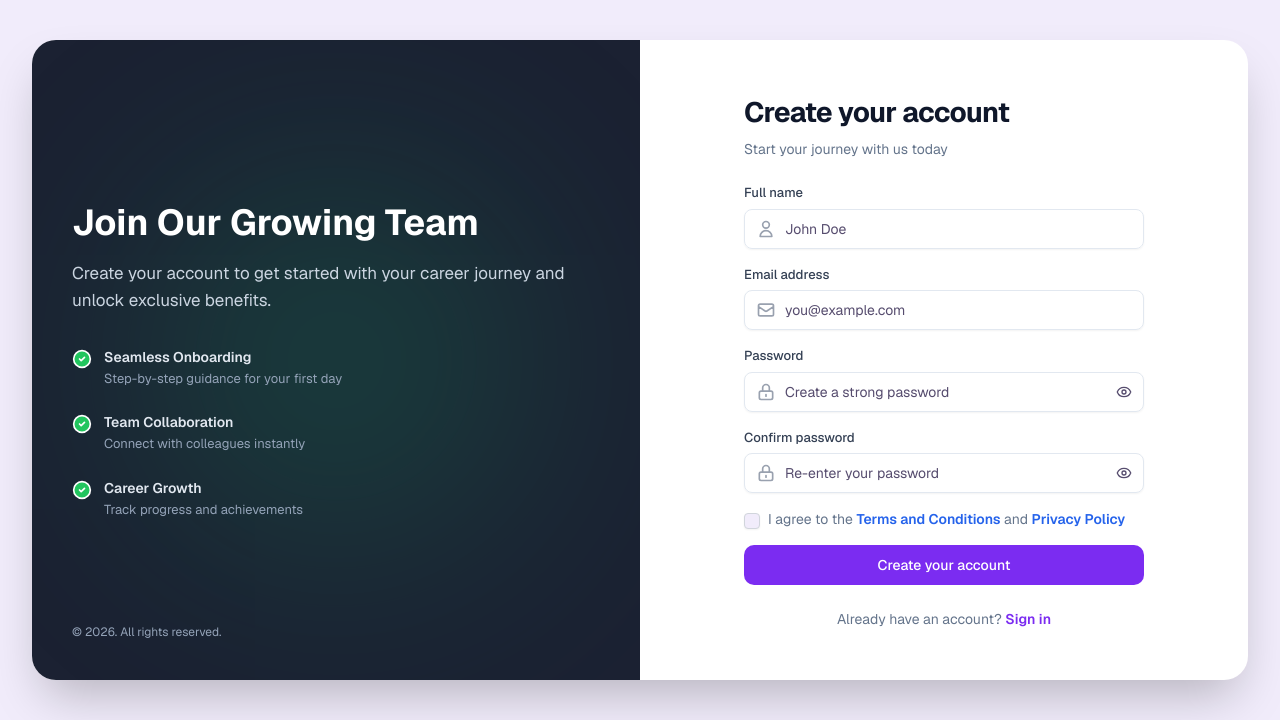
Scenario: RegisterPage – Error Handling › displays error message when auth.signUp throws an Error
Expected: the field with placeholder "you@example.com" is shown, top-left (744, 290), bottom-right (1144, 330)
Type "Jane Smith" into the field with placeholder "John Doe" at (944,228), box top-left (744, 208), bottom-right (1144, 248)
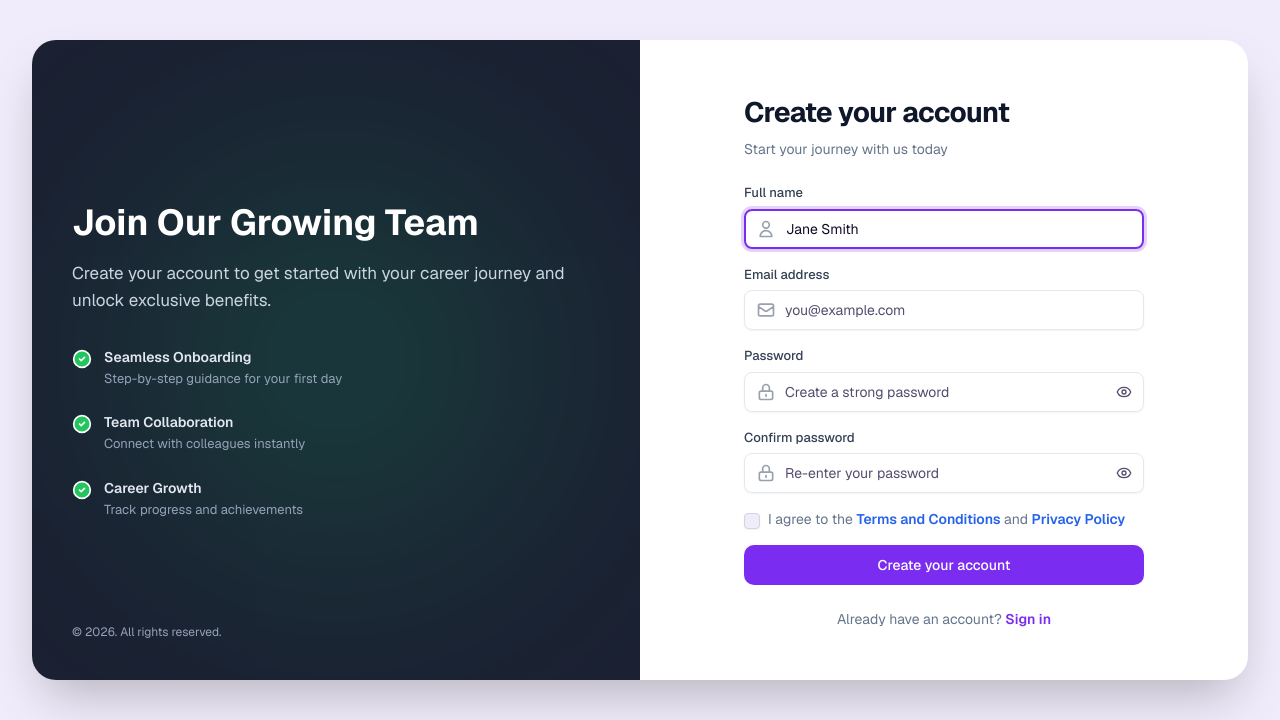
Type "jane@example.com" into the field with placeholder "you@example.com" at (944,310), box top-left (744, 290), bottom-right (1144, 330)
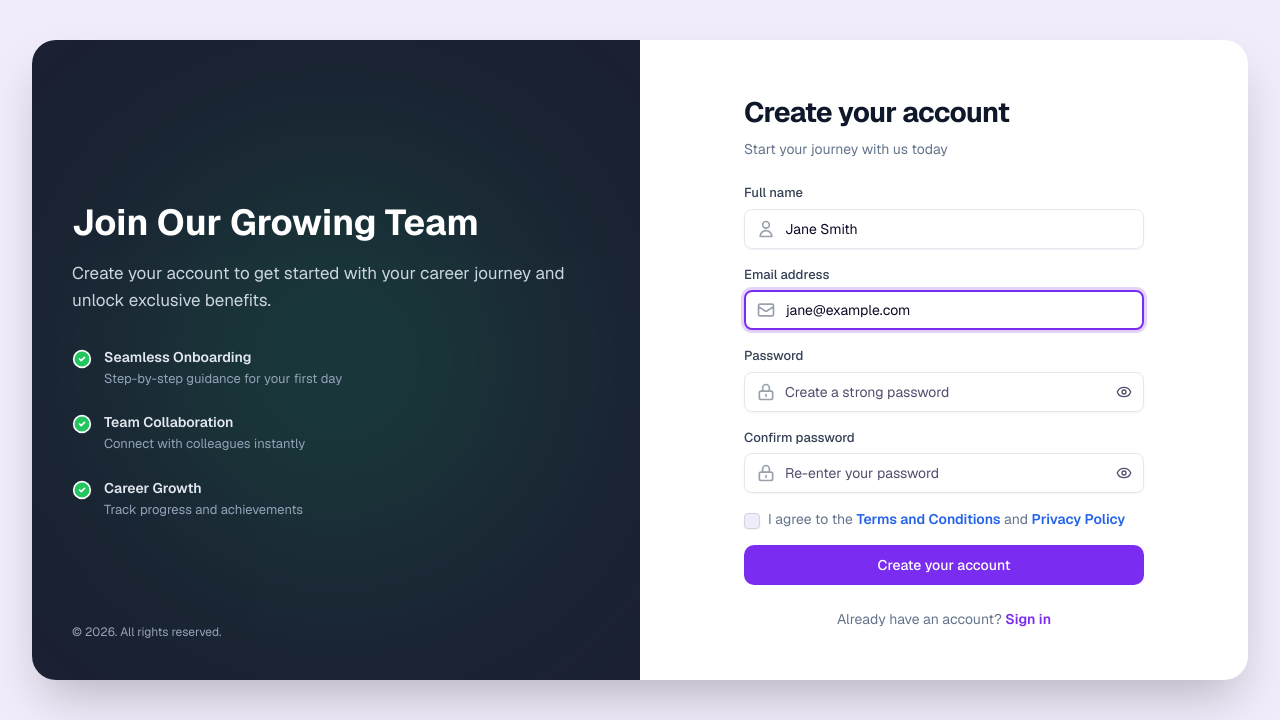
Type "Secret123!" into the password field with placeholder "Create a strong password" at (944,392), box top-left (744, 372), bottom-right (1144, 412)
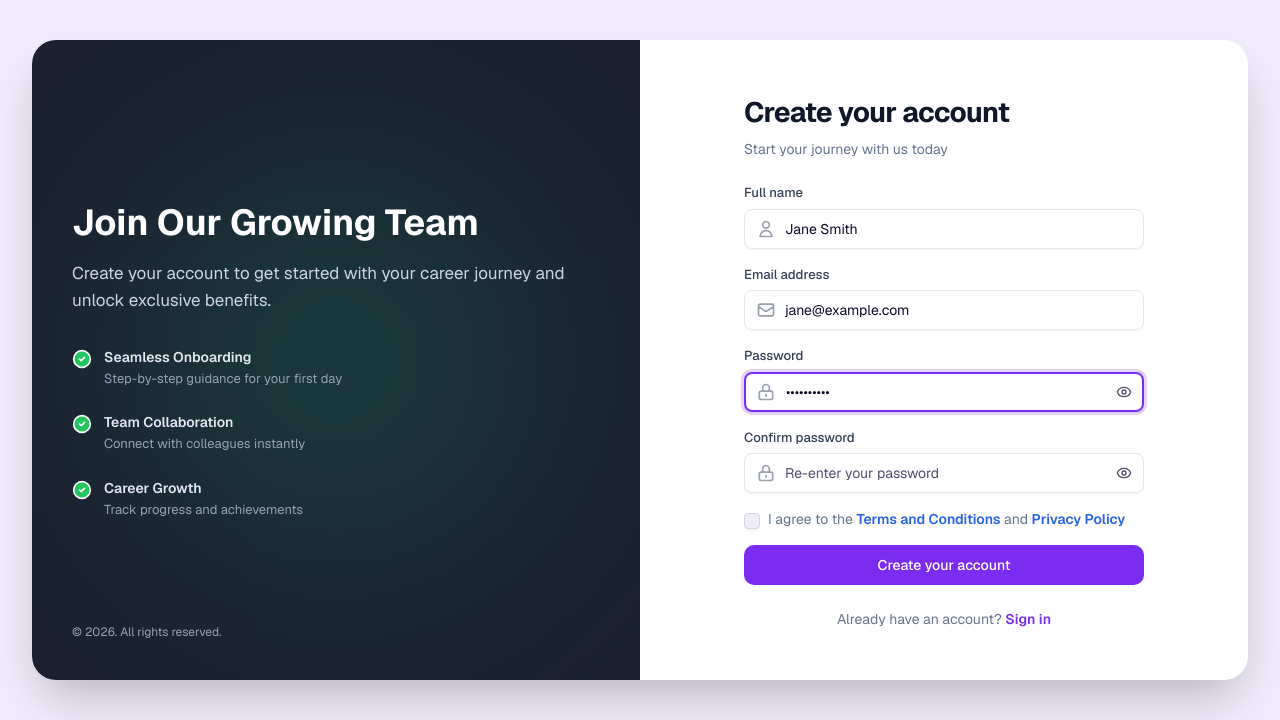
Type "Secret123!" into the password field with placeholder "Re-enter your password" at (944,473), box top-left (744, 453), bottom-right (1144, 493)
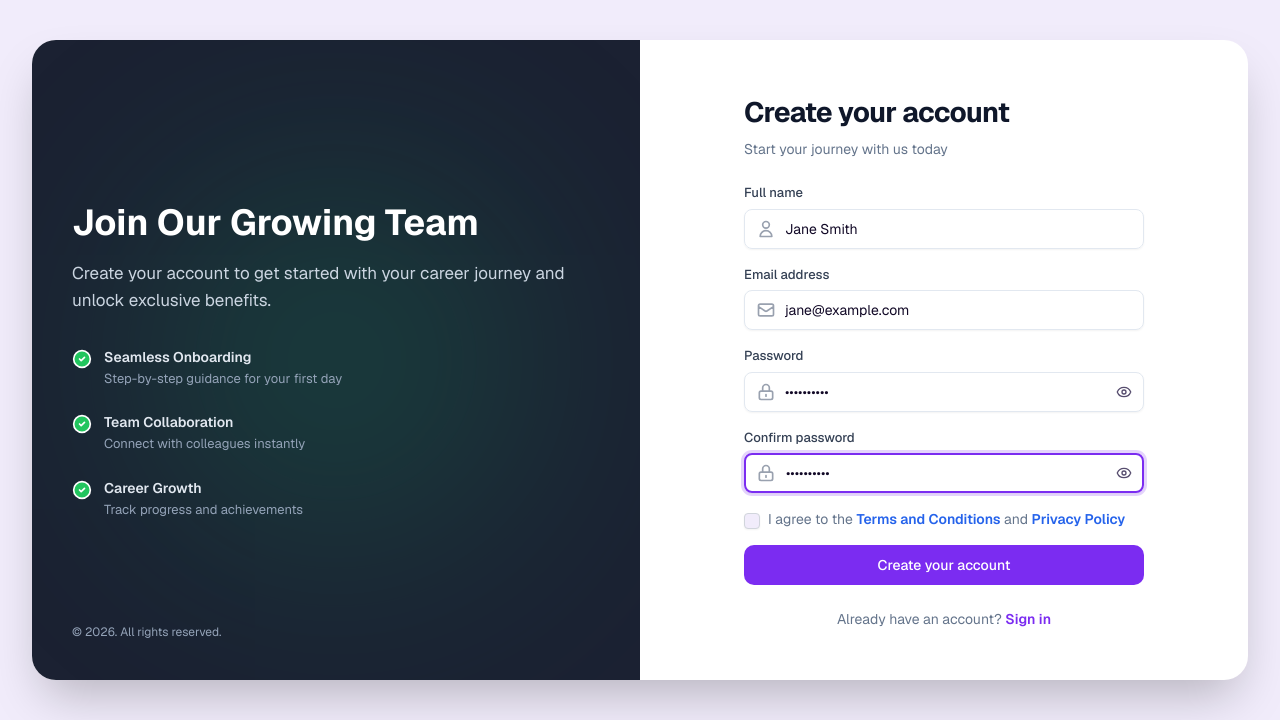
Submit the form, box top-left (744, 183), bottom-right (1144, 585)
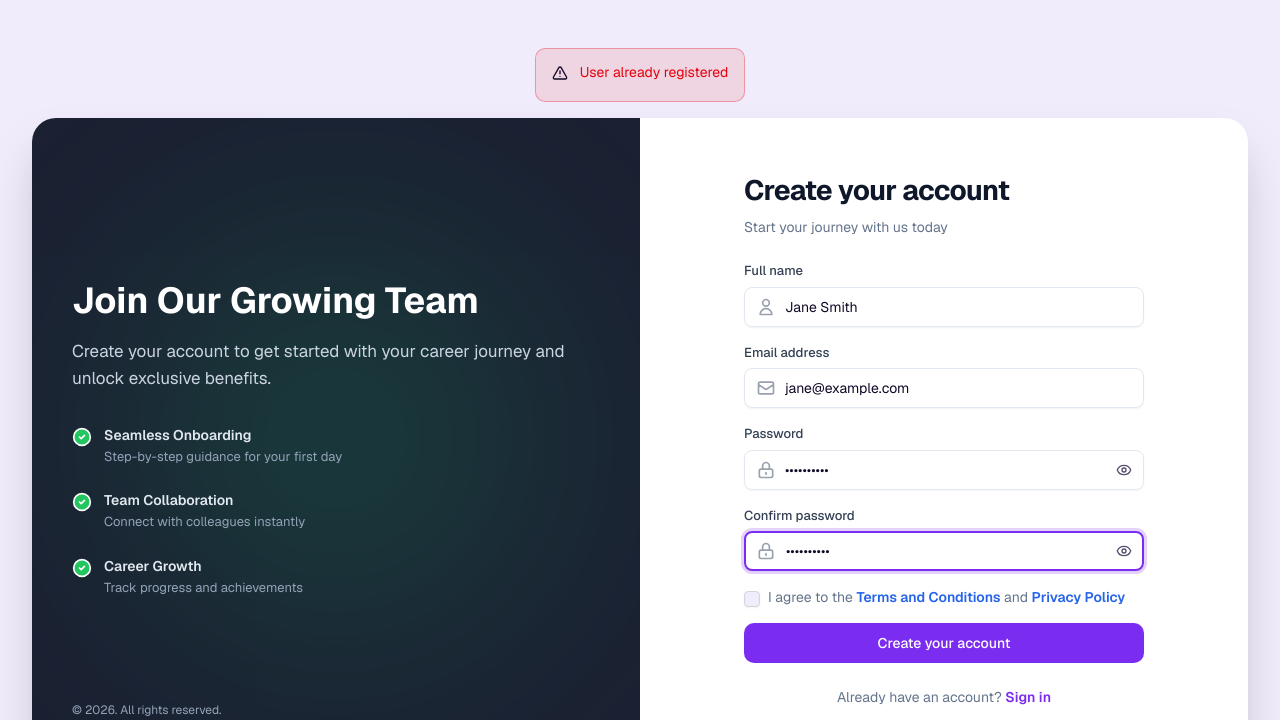
Result: the text "User already registered" is shown at top-left (580, 63), bottom-right (728, 81)
